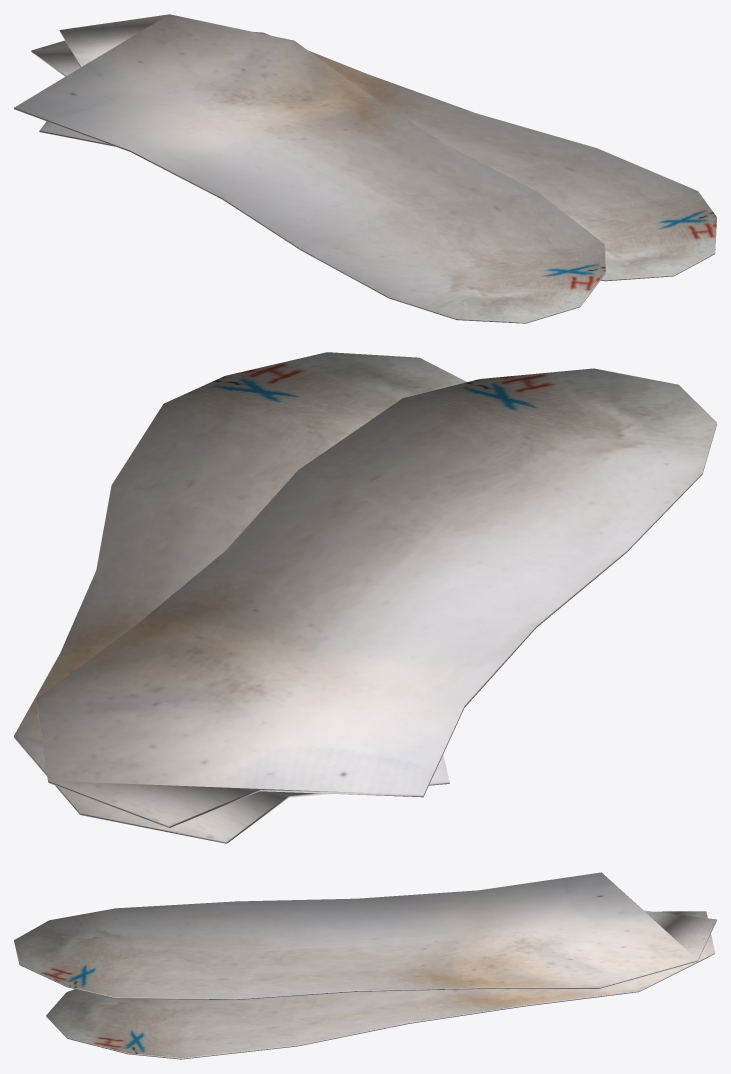
File: socks.glb
3 views of the same model, one above another, from view 1: azimuth 30°, elevation 25°; view 2: azimuth 150°, elevation 25°; view 3: azimuth 270°, elevation 25° (orthographic). The views are drawn at different scales.
Parts seen in each view (by area): view 1: Object_2; view 2: Object_2; view 3: Object_2.
Part boxes in pixels (box(x1,y1,x2,y2)): Object_2: box(14, 14, 716, 323); Object_2: box(14, 352, 716, 843); Object_2: box(14, 872, 716, 1059).
Size of the model in its own units: 4.7 by 0.0929 by 7.78.
1 material, 1 textured.
